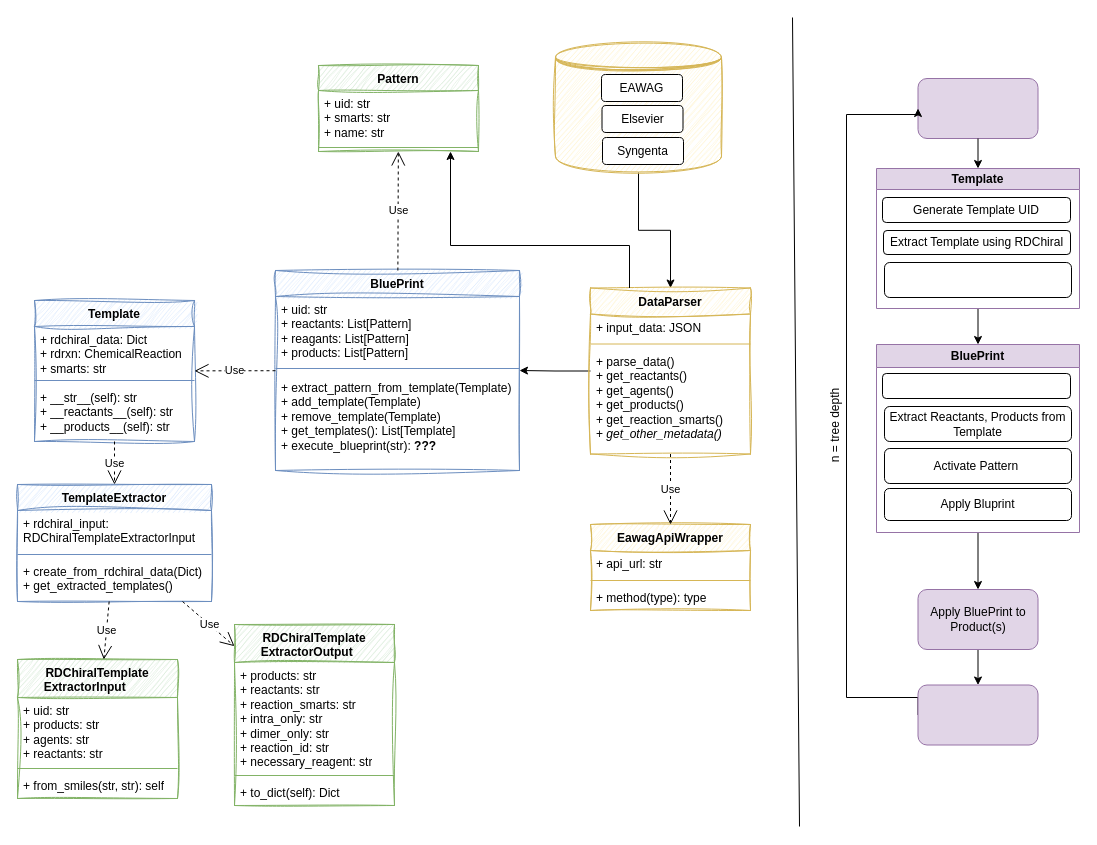
The diagram is 1097 pixels wide and 845 high, and some of its shapes have lost their labels. Each missing label, with the centre of its shape:
"Generate BluePrint UID" belongs at (x=976, y=385).
"Obtain Synthon" belongs at (x=977, y=714).
"Reaction Data" belongs at (x=977, y=108).
"Save template" belongs at (x=978, y=280).
